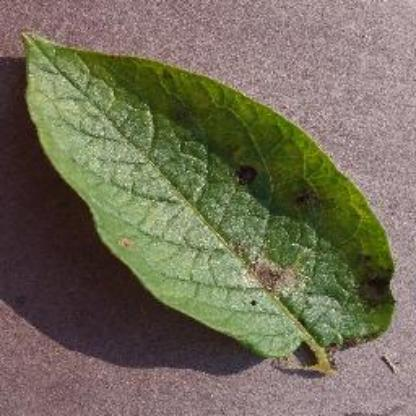Late-Blight: (15, 29, 401, 355)
